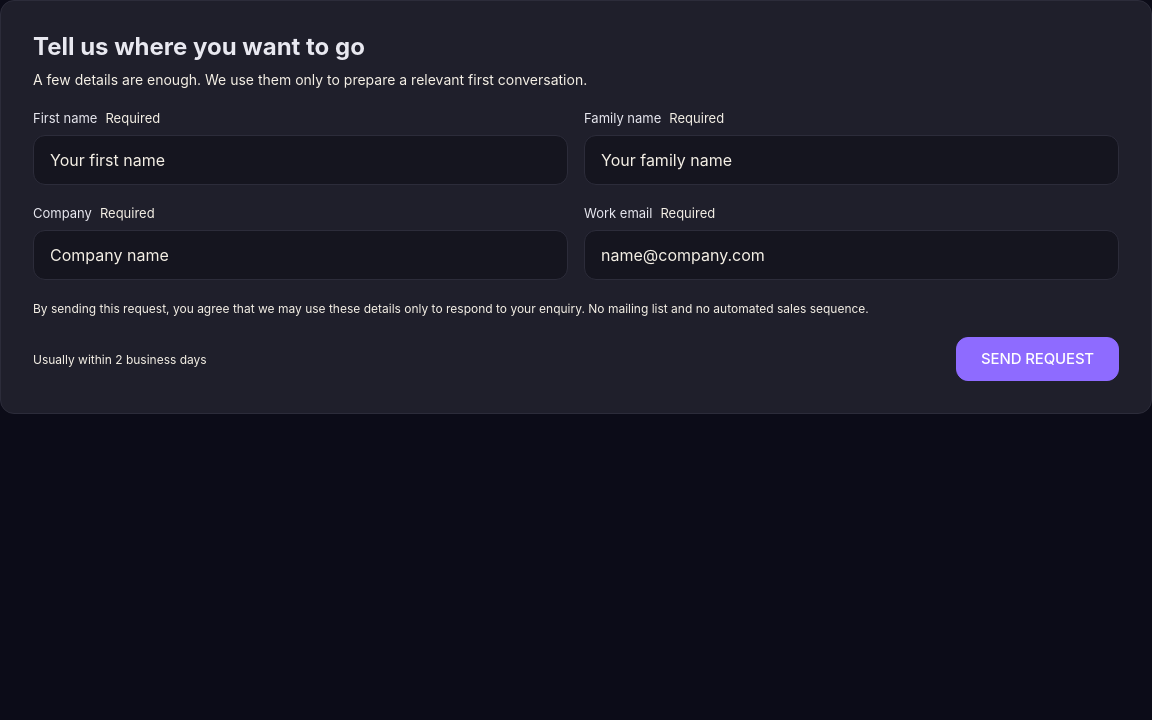
Test: LeadForm › shows required and email errors with an accessible summary
Submit the form, box [0,0,1151,414]
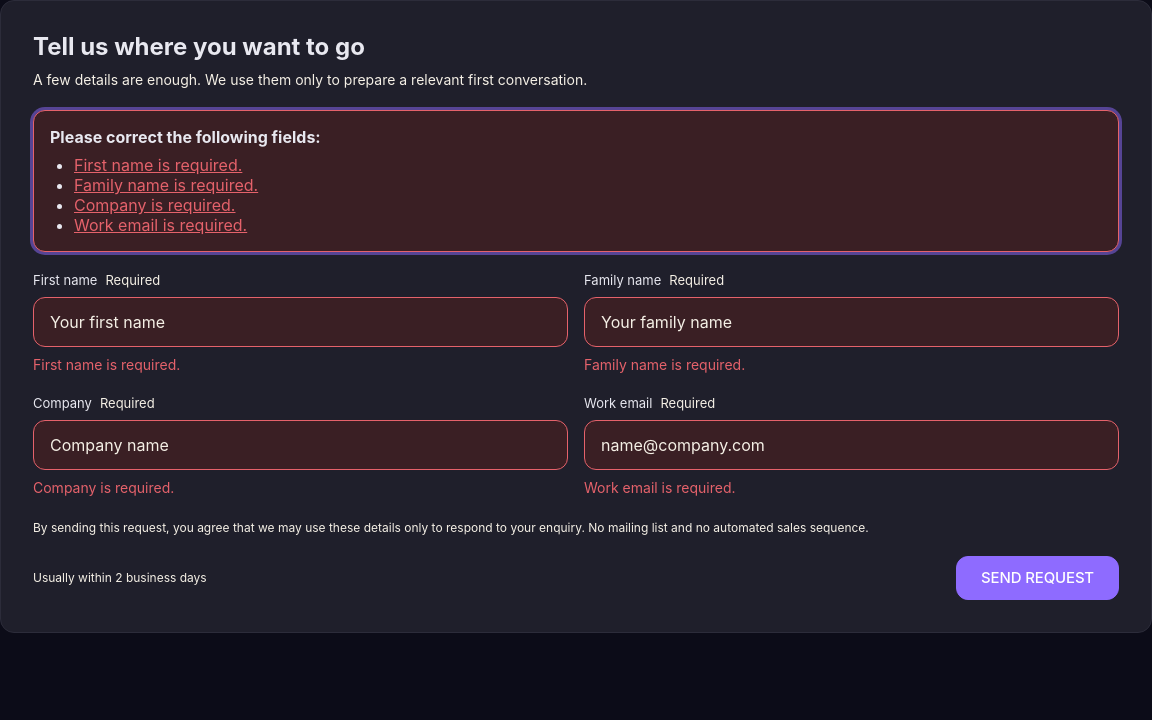
Check: the message that starts with "Please correct the following fields:" shows "First name is required.", box [74,155,242,175]
In the field named "workEmail": (852, 445) [584,420,1119,470], type "invalid"
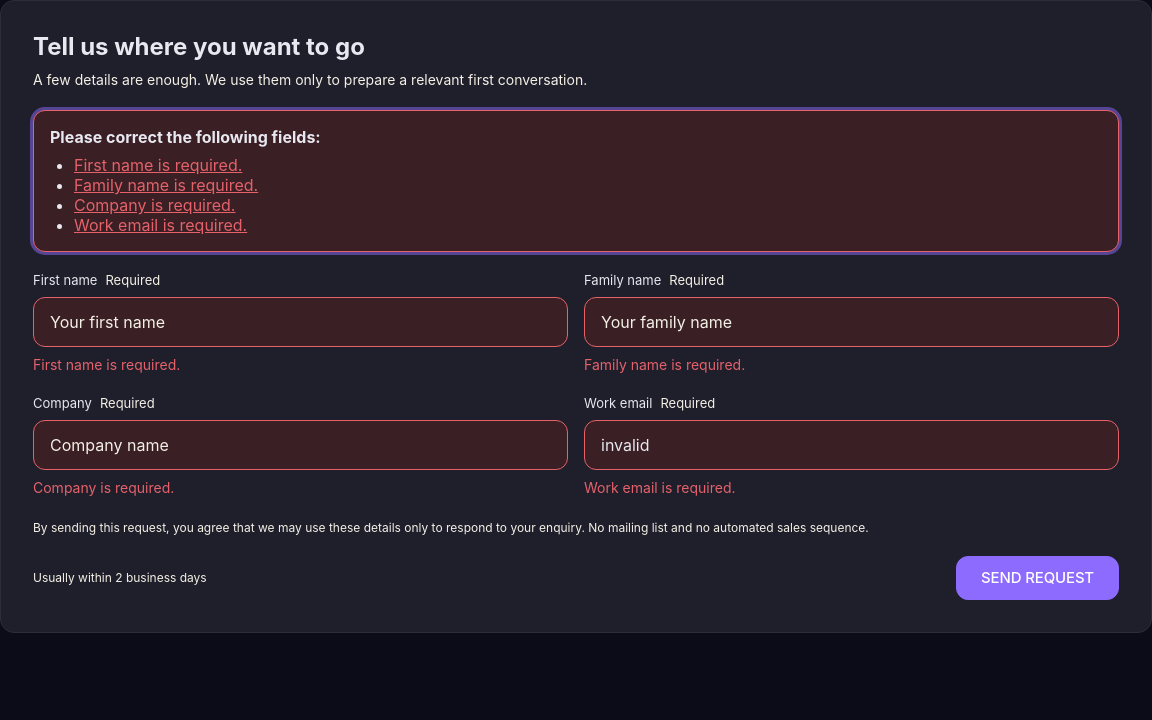
Leave the field named "workEmail", box [584,420,1119,470]
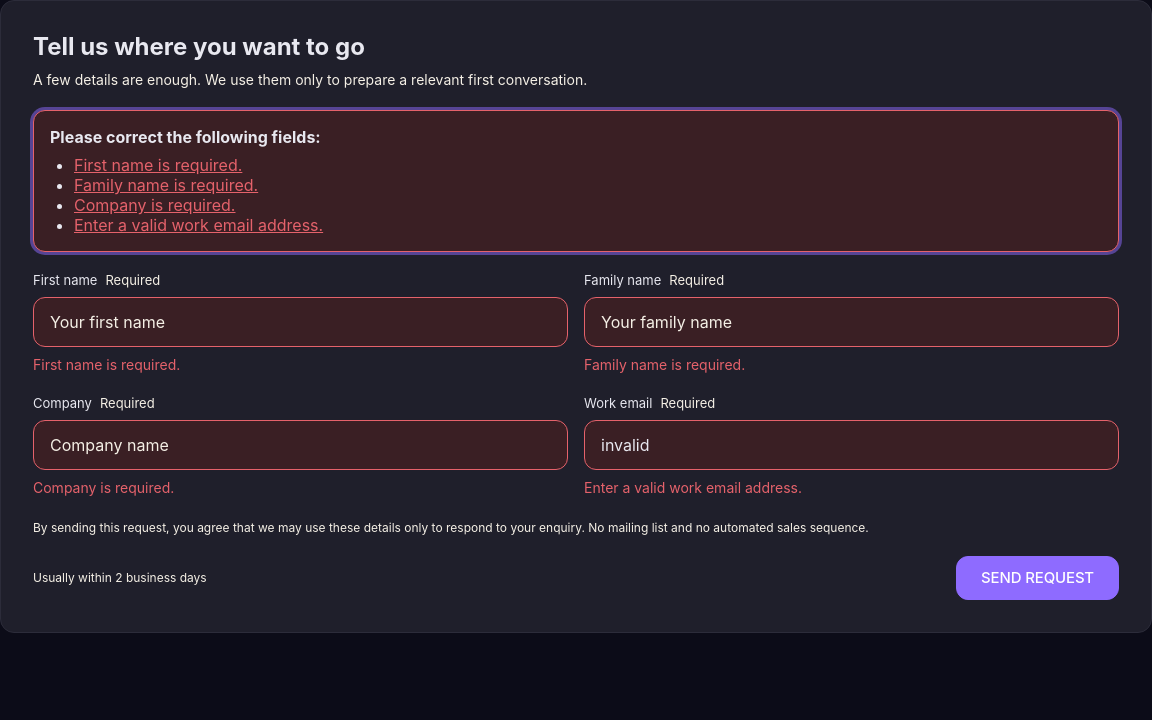
Check: the form shows "Enter a valid work email address.", box [74,215,323,235]
